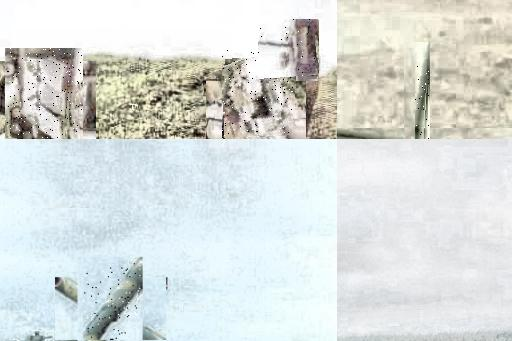tanks: (6, 50, 83, 140), (224, 52, 295, 139), (84, 262, 141, 341), (260, 21, 319, 79), (416, 54, 430, 140), (37, 333, 38, 341)
